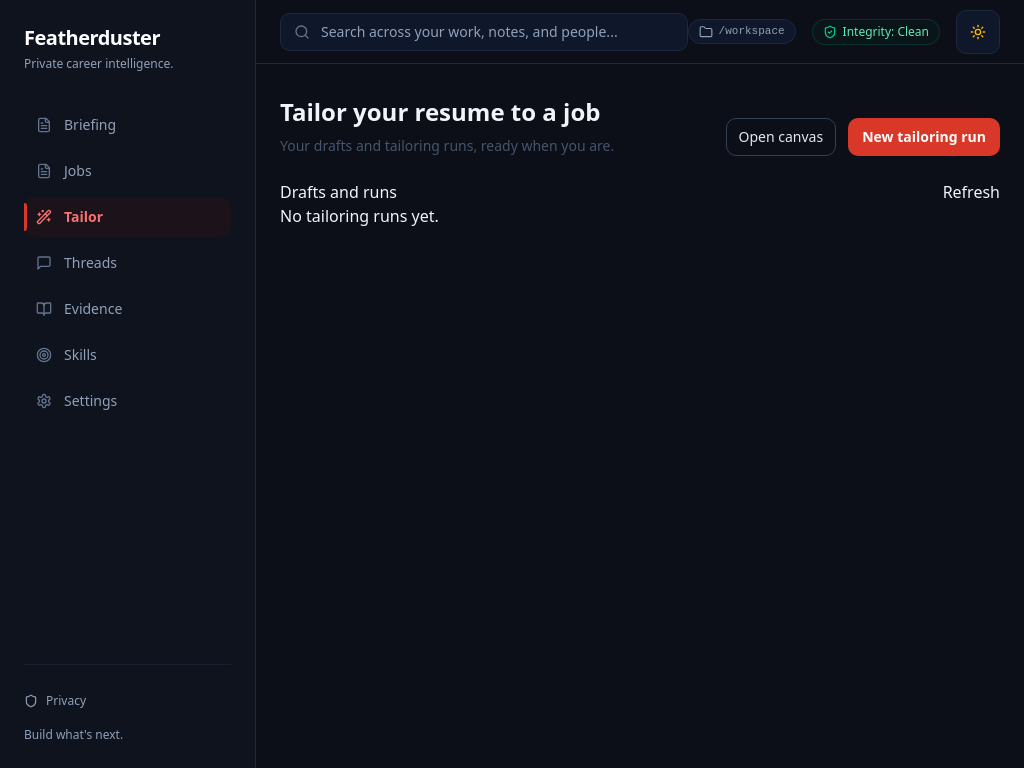
returns to the list after cancelling a draft
Click the button "New tailoring run".
click(924, 137)  # box [848, 118, 1000, 156]
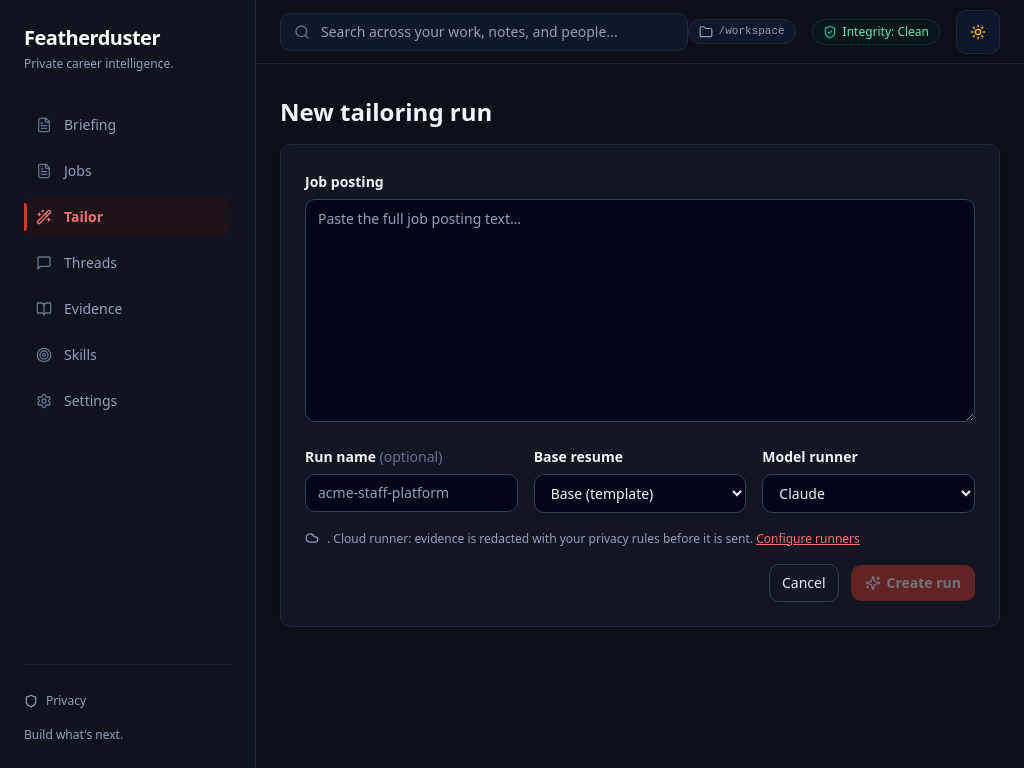
Result: the dropdown labelled "Base resume" shows "Base (template)" at [534, 474, 746, 513]
Type "Saved posting" into the text box labelled "Job posting".
click(640, 310); type("Saved posting")  # box [305, 199, 975, 422]
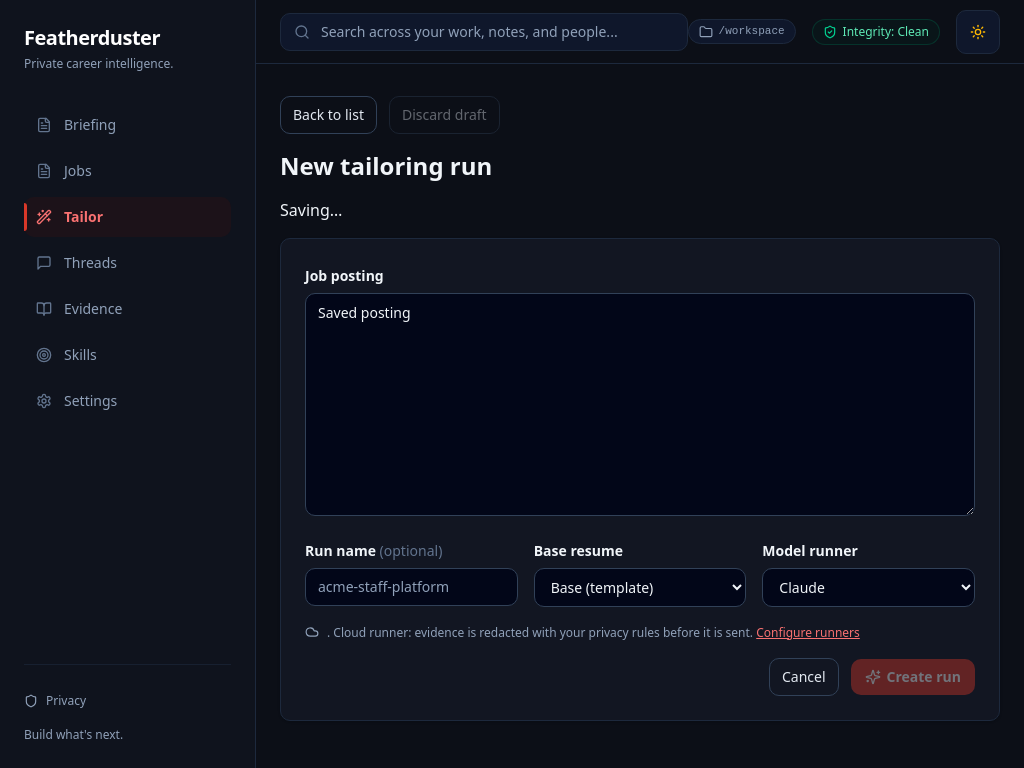
Click the button "Cancel".
click(804, 677)  # box [769, 658, 838, 696]
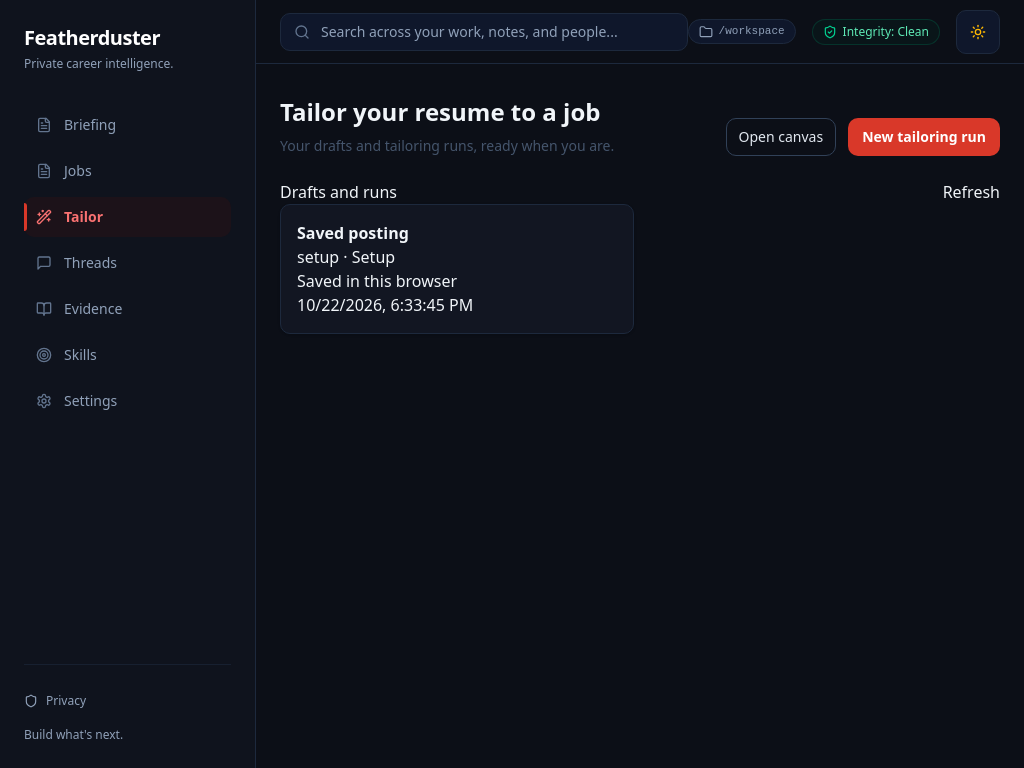
Result: the heading "Tailor your resume to a job" is shown at [280, 96, 614, 128]
Result: the text "Saved posting" is shown at [297, 222, 409, 244]
